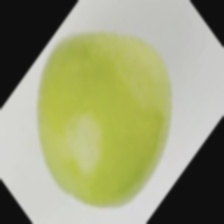apple: (25, 14, 204, 183)
